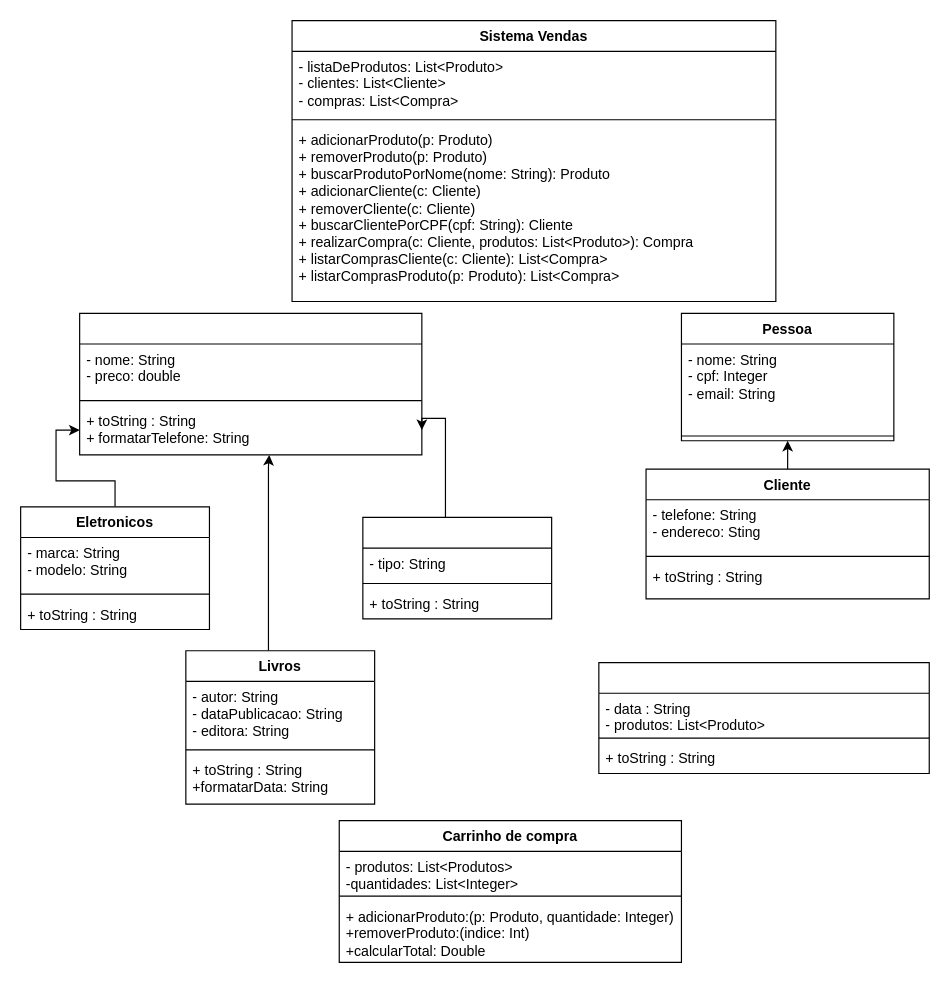
The diagram is 950 pixels wide and 986 high, and some of its shapes have lost their labels. The shapes that lost their labels are listed below. From the top down, each one's box as (x1, y1, x2, y2) in pixels, then its label:
(78, 312, 422, 455): Produto
(362, 516, 552, 619): Utilitarios
(598, 661, 929, 773): Compra
